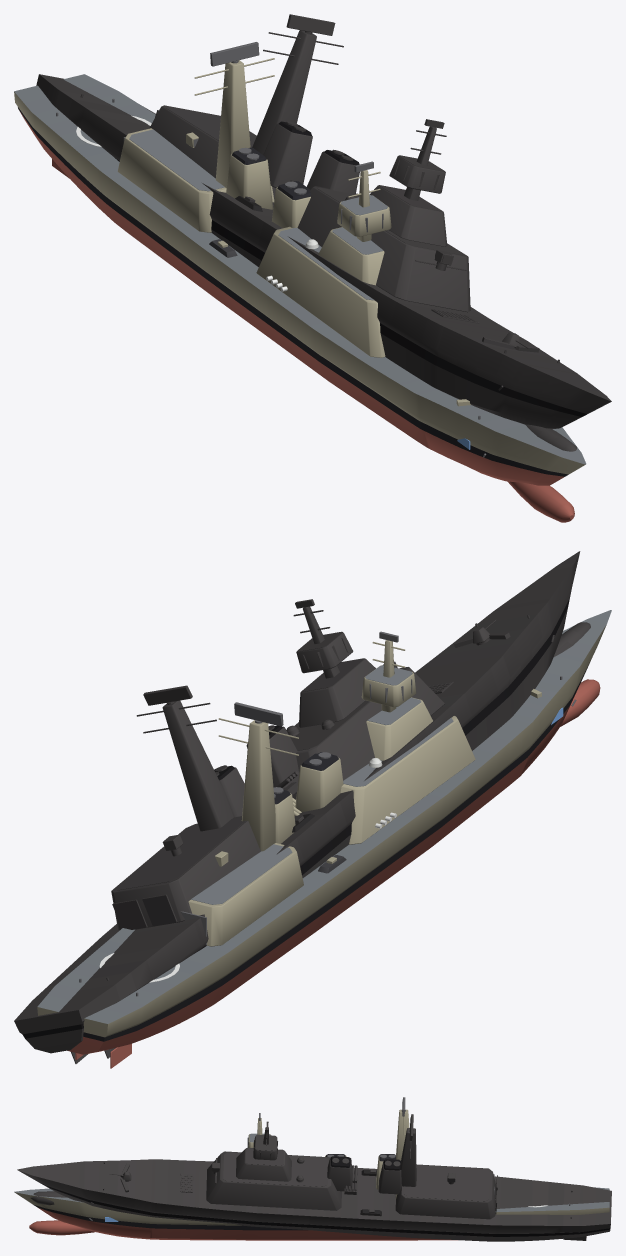
File: destroyer__f124_sachsen_class.glb
The picture shows the model from 3 angles, top to bottom: view 1: azimuth 30°, elevation 25°; view 2: azimuth 150°, elevation 25°; view 3: azimuth 270°, elevation 25°; orthographic projection. The views are drawn at different scales.
Visible parts, largest first — view 1: Hull_Mesh, Wreck, Radar_Mesh; view 2: Hull_Mesh, Wreck, Radar_Mesh; view 3: Wreck, Hull_Mesh.
Boxes of the visible parts, x1,y1,x2,y2 form: Hull_Mesh: (14,58,586,522); Wreck: (36,14,611,451); Radar_Mesh: (210,42,259,66); Hull_Mesh: (37,610,611,1068); Wreck: (14,551,590,1063); Radar_Mesh: (234,702,283,726); Wreck: (17,1114,611,1241); Hull_Mesh: (14,1109,609,1240).
Size of what is drawn, in the model's own units: 27.2 by 38.48 by 150.
